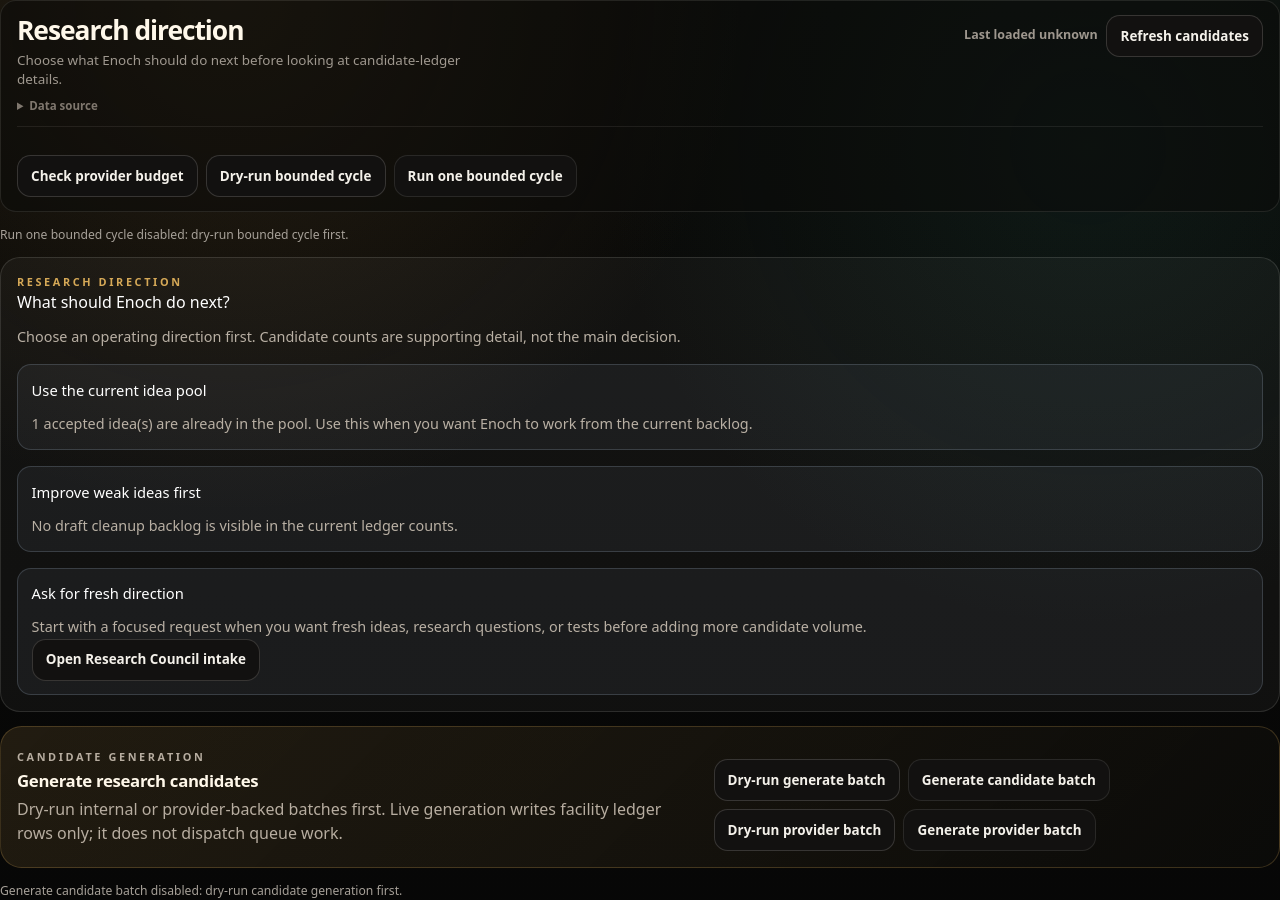
Test: loads research facility rows and checks provider budget through bounded APIs
Click the button "Check provider budget" at x=107, y=176, box [17,155,198,197]
(page scrolled)
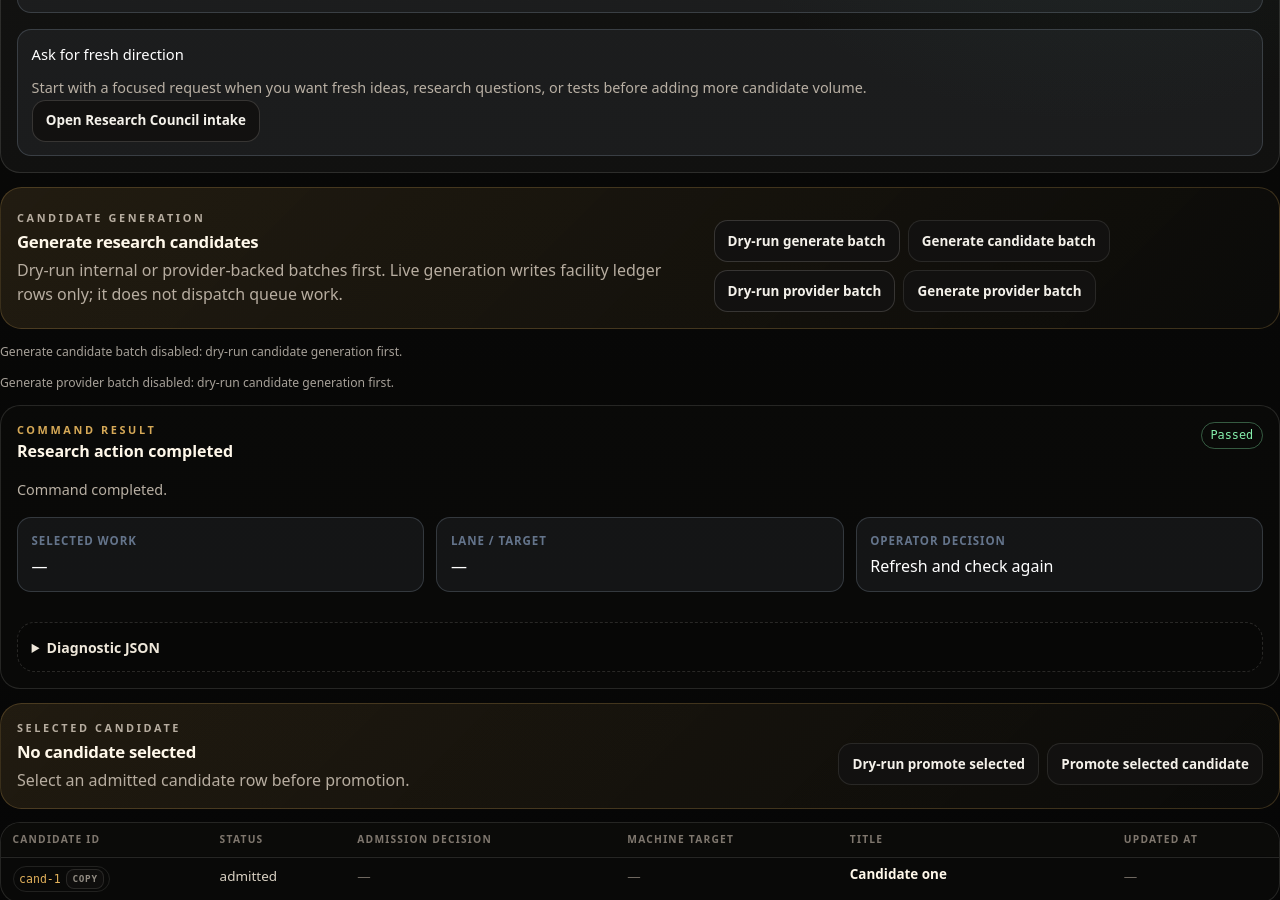
Now the heading "Research action completed" is shown, box [17,439,233,463]
